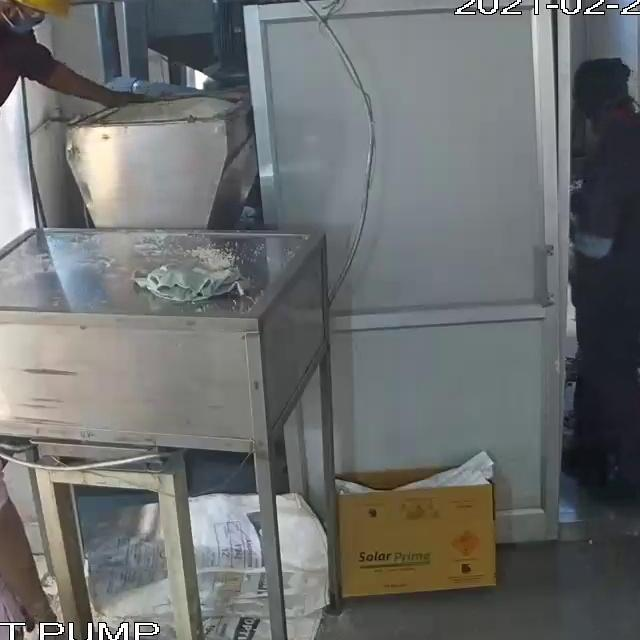Hardhat: (575, 54, 630, 103), (0, 0, 72, 22)
Mask: (8, 22, 47, 36), (591, 119, 604, 140)
NO-Safety Vest: (593, 134, 640, 310)
Person: (0, 0, 148, 298), (556, 55, 640, 513), (0, 223, 67, 640)
